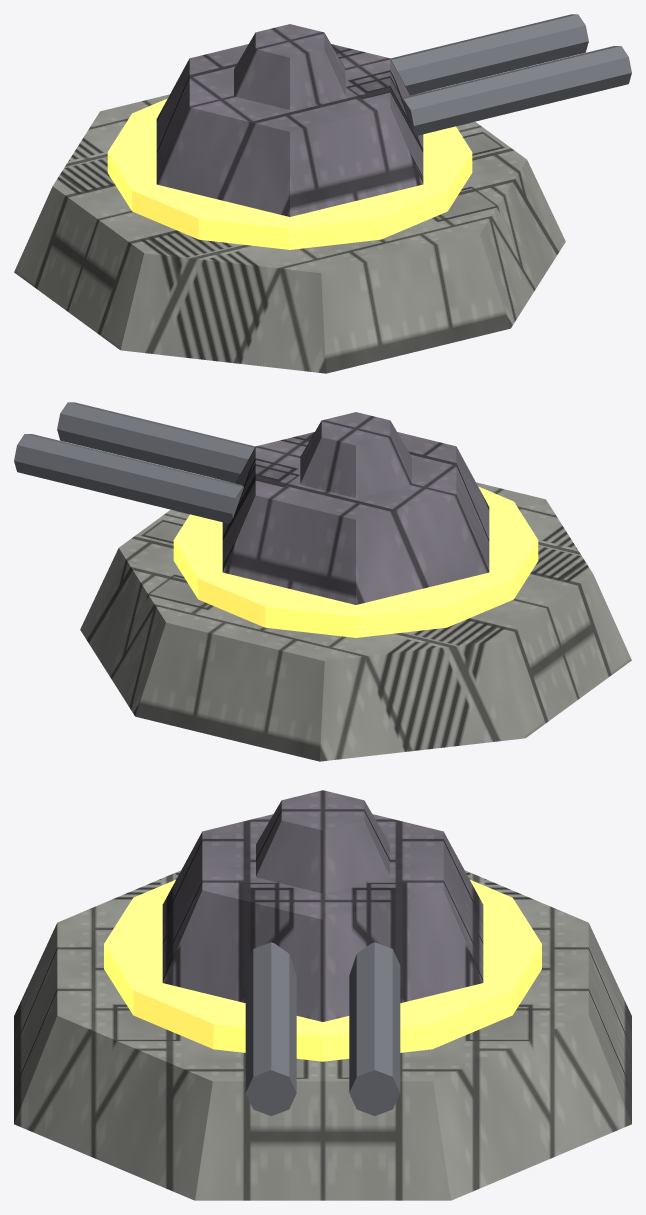
The model's file is turret_ember.glb.
3 views of the same model, one above another, from view 1: azimuth 30°, elevation 25°; view 2: azimuth 150°, elevation 25°; view 3: azimuth 270°, elevation 25° (orthographic). The views are drawn at different scales.
Size of the model in its own units: 9.28 by 3.6 by 7.76.
Materials: 4 (2 with a texture image).
